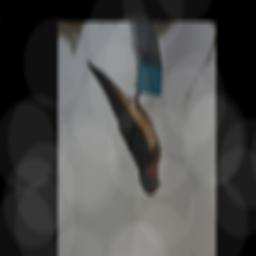Swallow: (85, 58, 163, 198)
